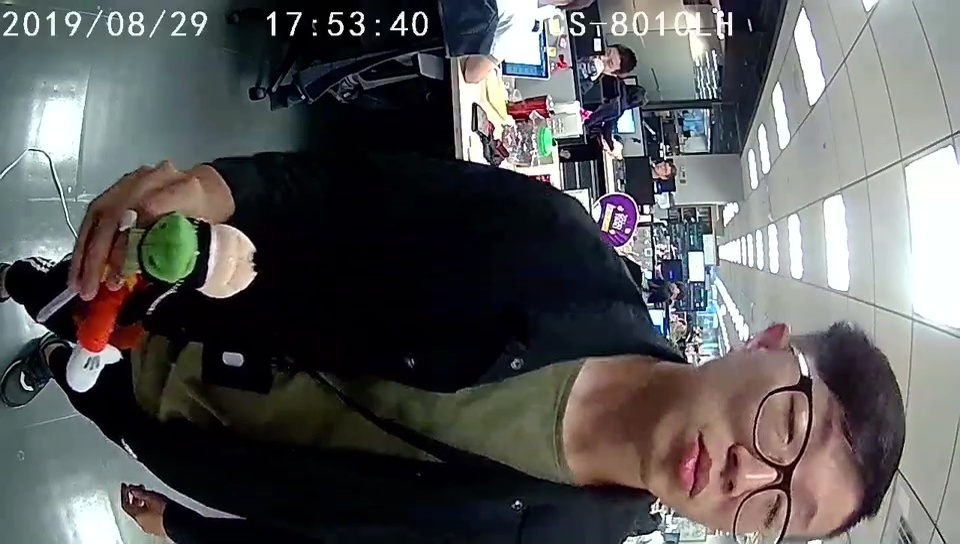goofy: (64, 211, 257, 392)
